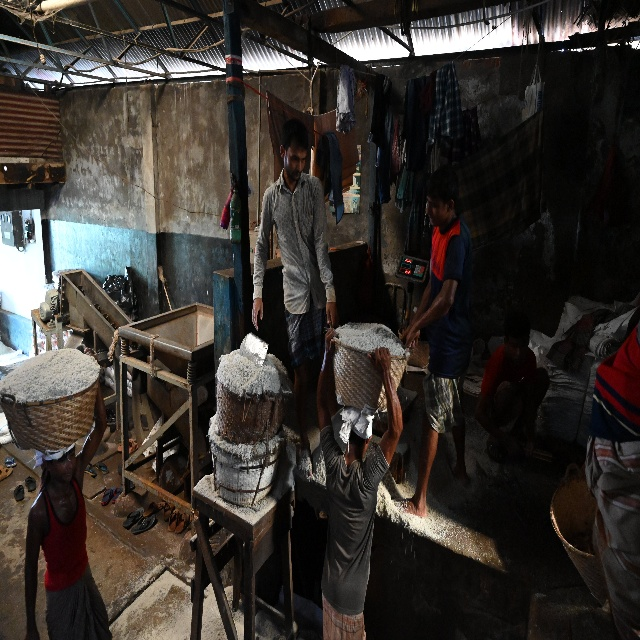Sin_guantes: (367, 346, 391, 376), (505, 437, 525, 465), (405, 323, 421, 350), (324, 327, 337, 358), (251, 299, 263, 331), (326, 300, 336, 328), (84, 347, 98, 361)
